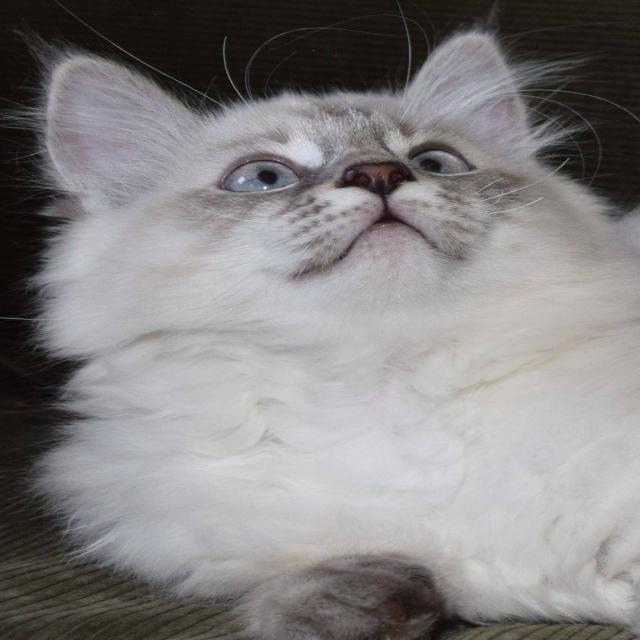Neva Masquerade: (15, 24, 640, 640)
